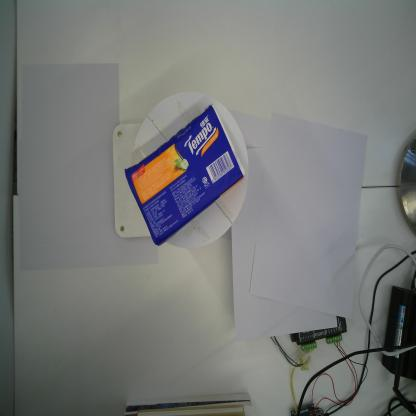Tissue: (125, 104, 245, 247)
